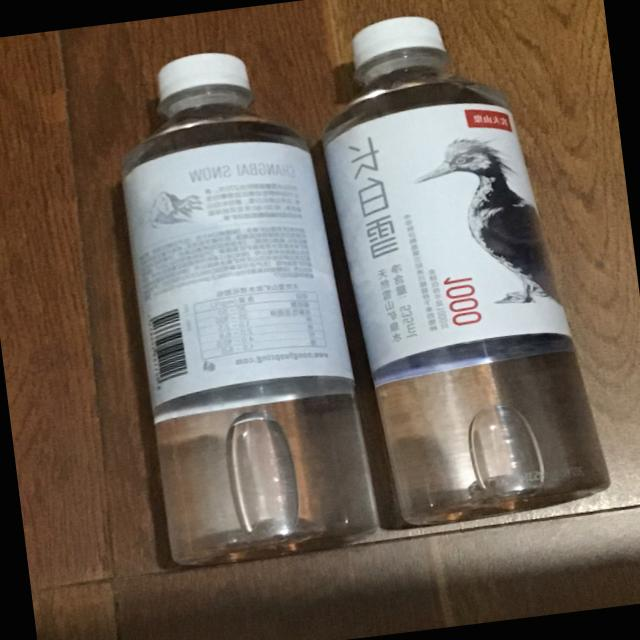bottle: (303, 0, 620, 535), (102, 34, 388, 574)
